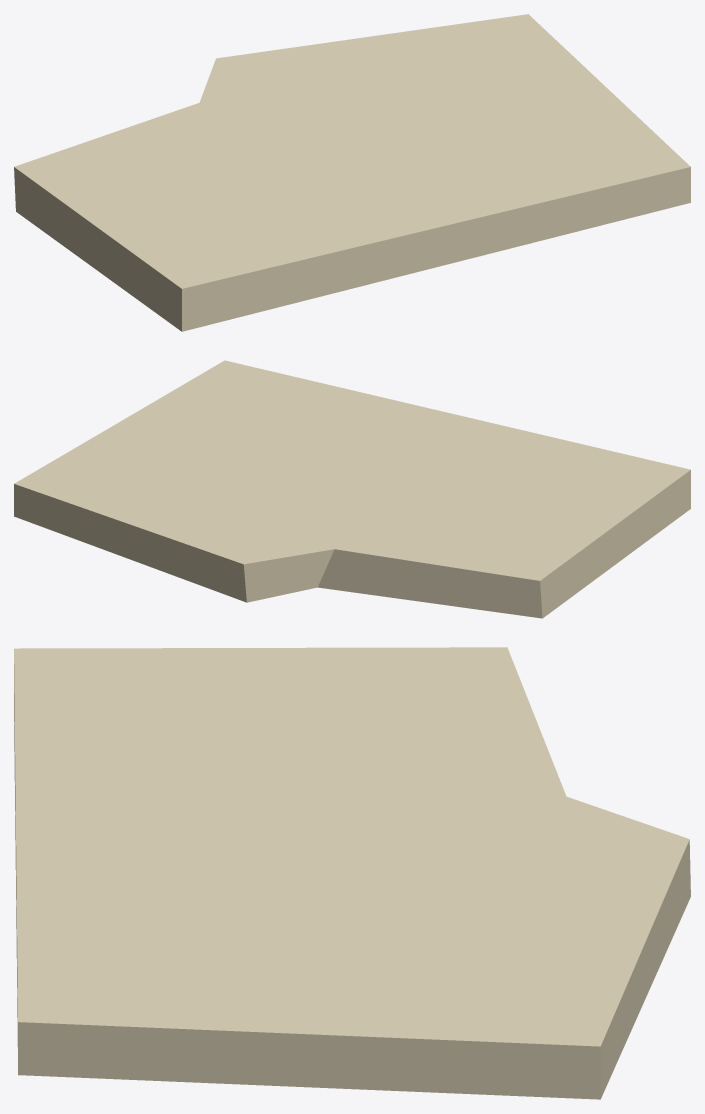
The model's file is Destroy_Plate_4.fbx.
3 views of the same model, one above another, from view 1: azimuth 30°, elevation 25°; view 2: azimuth 150°, elevation 25°; view 3: azimuth 270°, elevation 25° (orthographic). The views are drawn at different scales.
Visible parts, largest first — view 1: Destroy_Plate_4; view 2: Destroy_Plate_4; view 3: Destroy_Plate_4.
Boxes of the visible parts, x1,y1,x2,y2 form: Destroy_Plate_4: [14, 14, 690, 331]; Destroy_Plate_4: [14, 360, 690, 618]; Destroy_Plate_4: [14, 647, 690, 1099].
Size of the model in its own units: 297 by 22.44 by 216.
